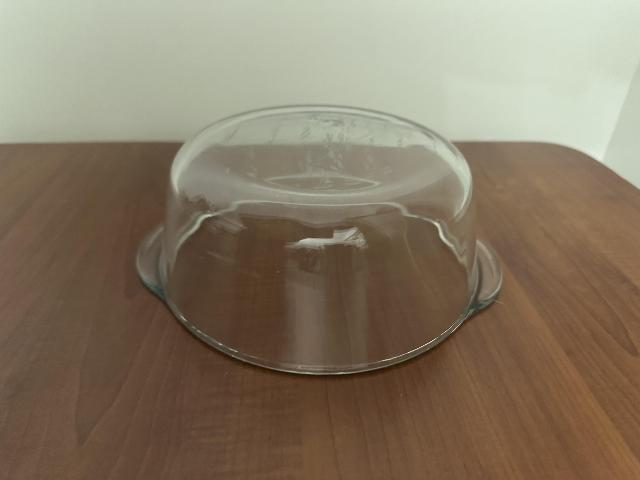Cam: (129, 103, 506, 383)
